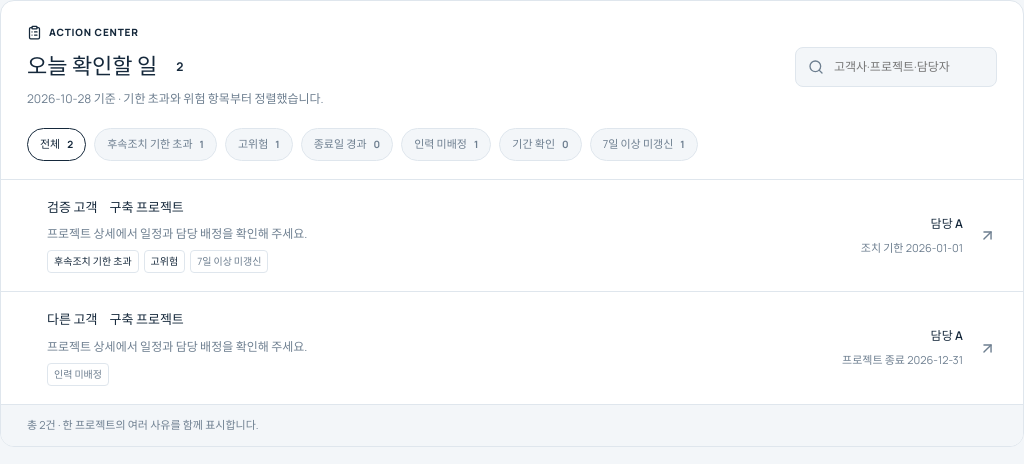
action center and search › groups reasons and lets the user find, filter and reset actionable projects
The width and height of the screenshot is (1024, 464).
Expected: the number of links is 2, x1=1 y1=180 x2=1023 y2=292; x1=1 y1=292 x2=1023 y2=405
Step 1. Click the button "후속조치 기한 초과 1" → point(156, 144), box x1=94 y1=128 x2=217 y2=161
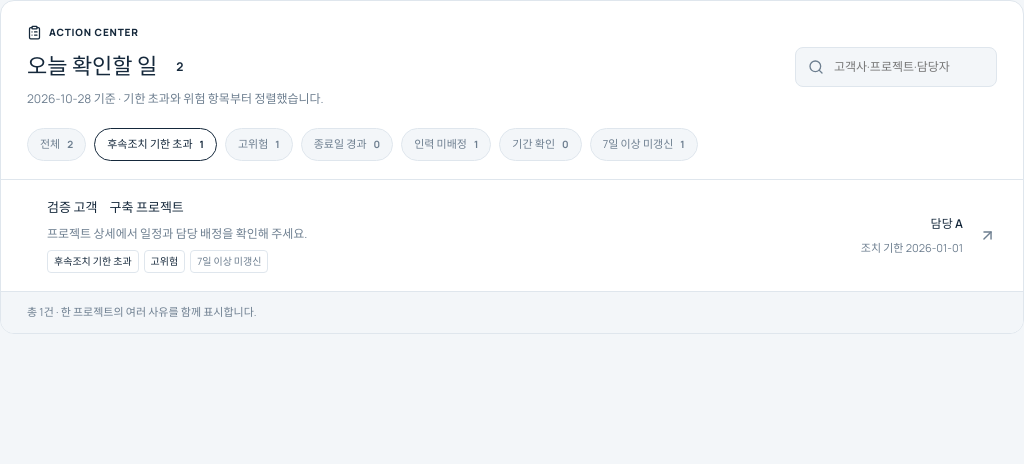
Expected: the number of links is 1, x1=1 y1=180 x2=1023 y2=292
Step 2. Type "없는 고객" into the field named "운영 조치함 검색" → point(908, 67), box x1=832 y1=57 x2=984 y2=77
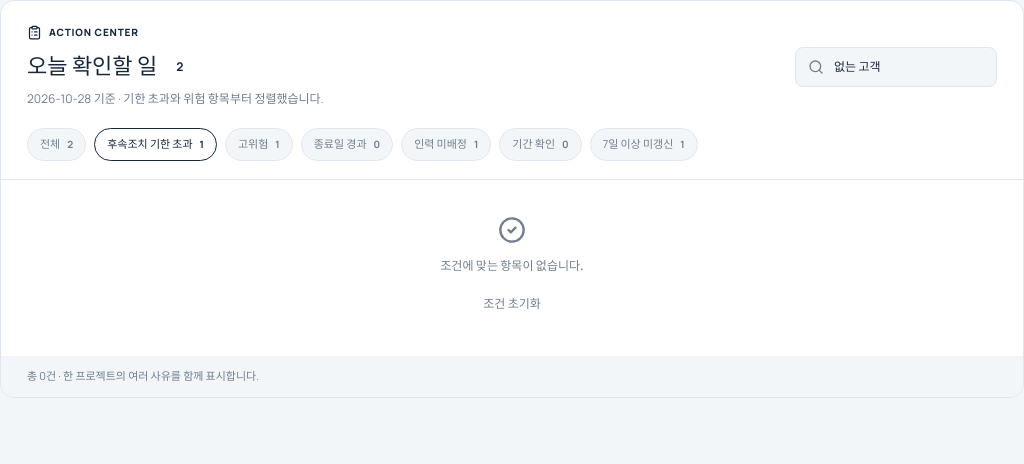
Expected: the text "조건에 맞는 항목이 없습니다." is shown, x1=440 y1=256 x2=584 y2=276
Step 3. Click the button "조건 초기화" → point(512, 304), box x1=483 y1=288 x2=541 y2=320
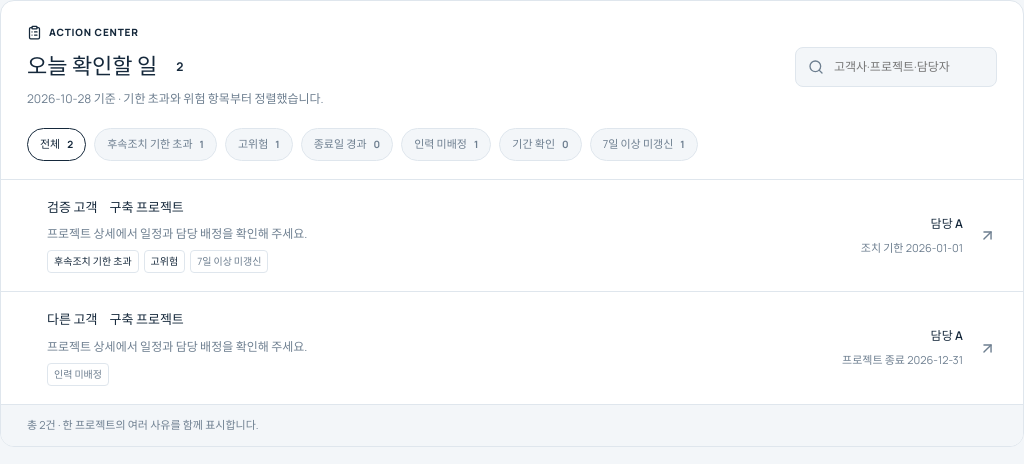
Expected: the number of links is 2, x1=1 y1=180 x2=1023 y2=292; x1=1 y1=292 x2=1023 y2=405
